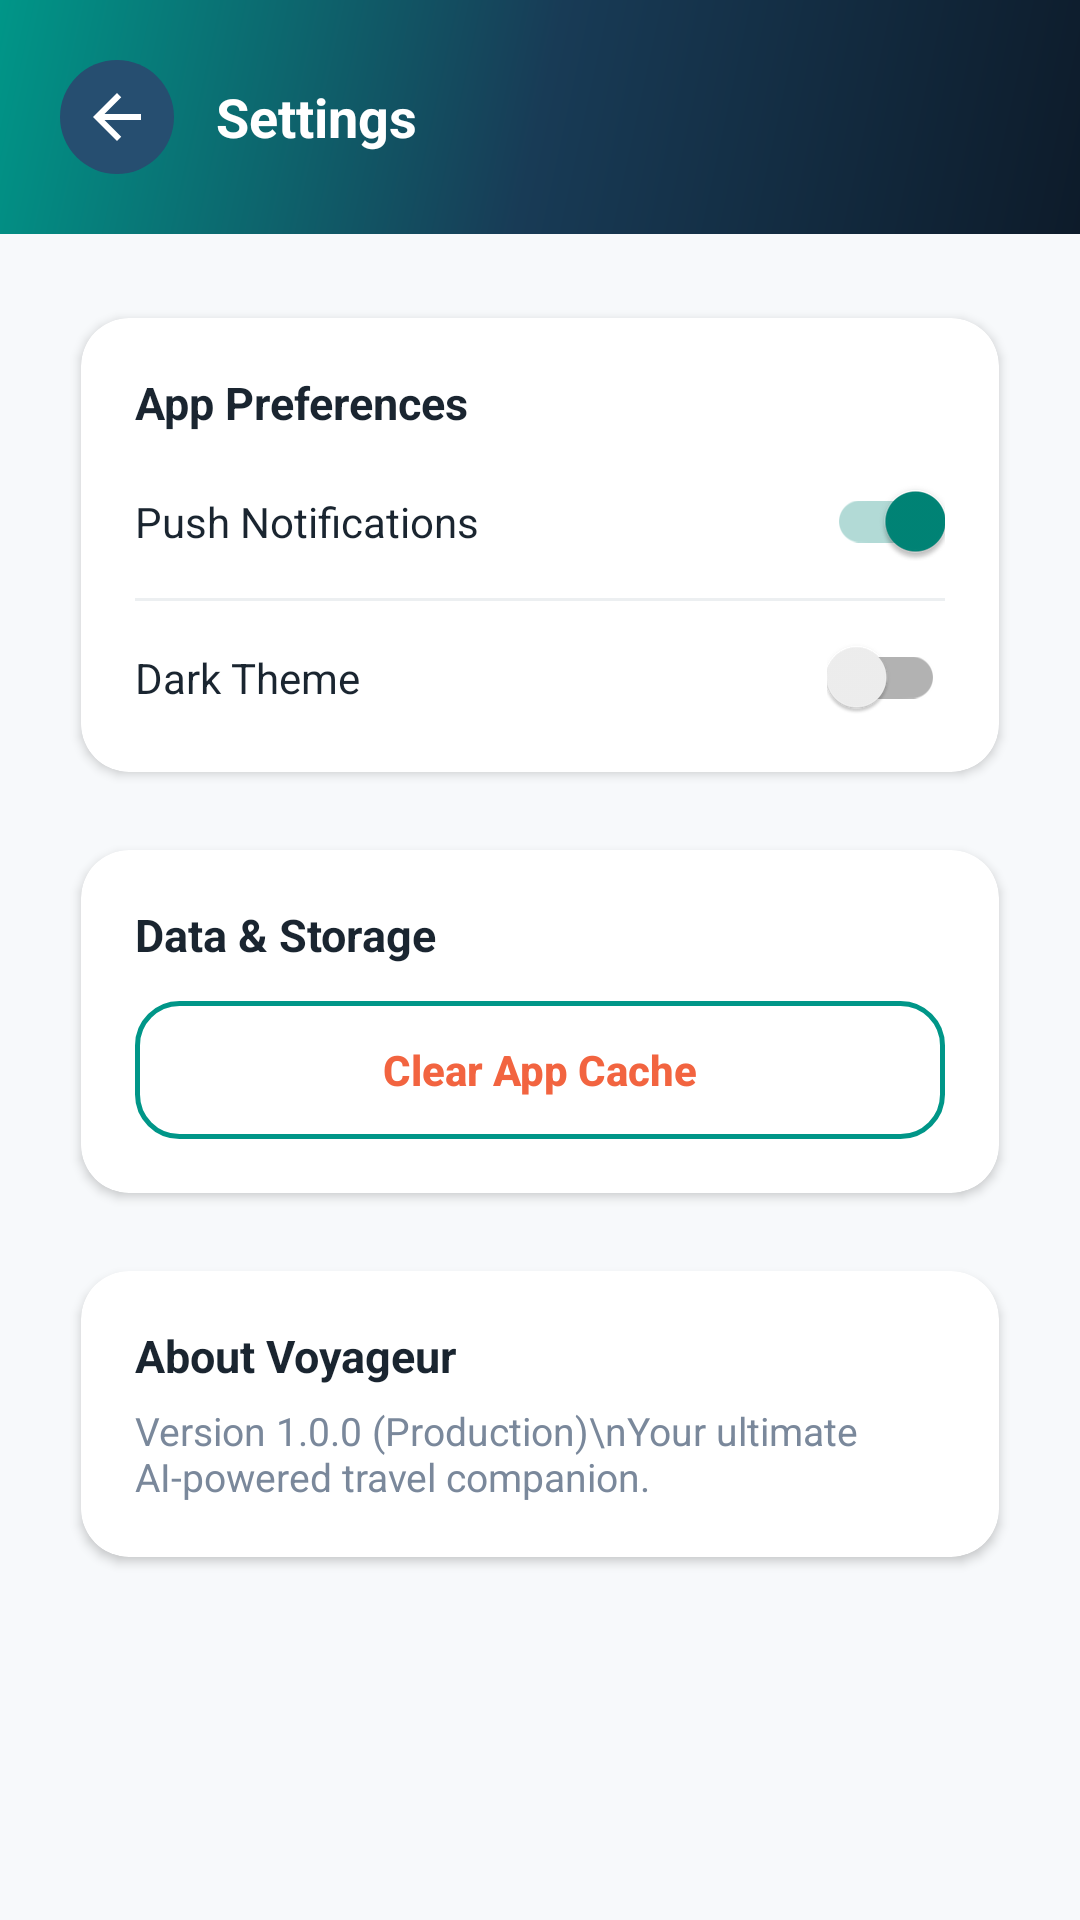

Where icons sit on this 1080 × 1920 app screen, as (x1, y1, x2, y2):
Back: (60, 60, 174, 174)
